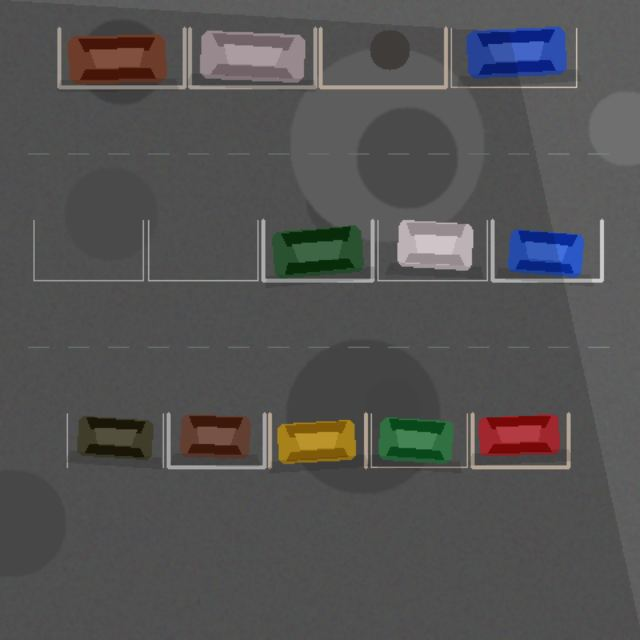space-empty: (320, 28, 445, 87), (33, 220, 143, 280), (148, 220, 257, 280)
space-occupied: (189, 28, 315, 87), (59, 28, 184, 87), (451, 28, 576, 87), (377, 220, 487, 280), (263, 220, 372, 280), (492, 220, 601, 280), (67, 413, 163, 467), (168, 413, 264, 467), (269, 413, 365, 467), (371, 413, 467, 467), (472, 413, 568, 467)
